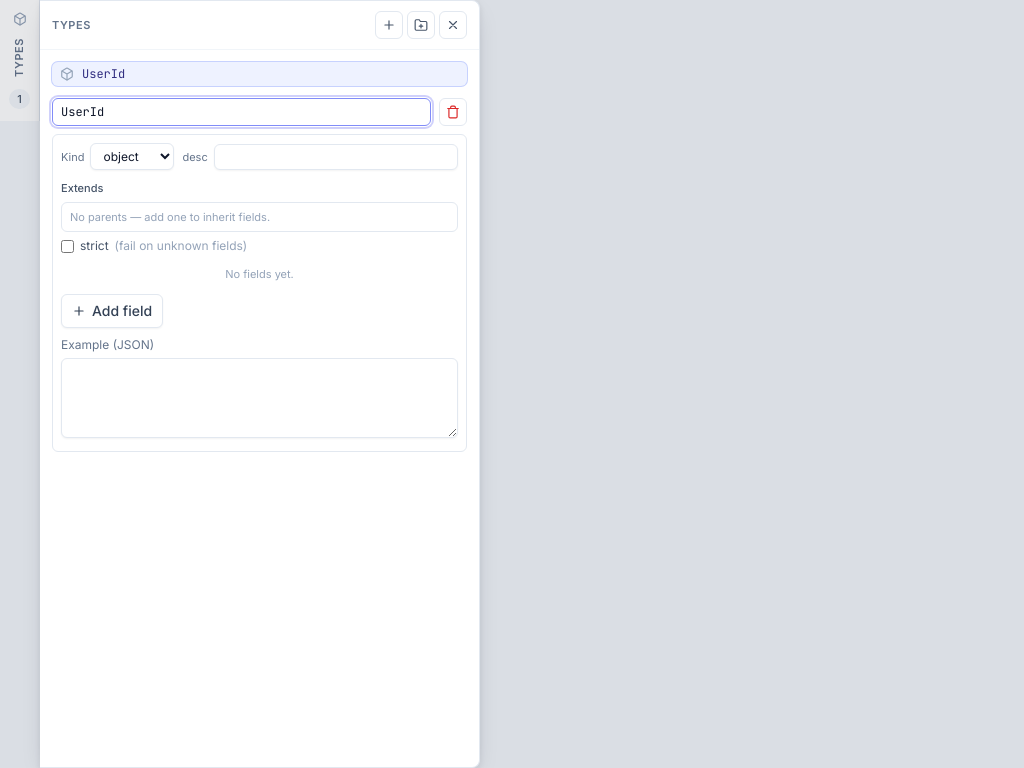
Test: rapid add-type does not clobber the previously-selected type
The width and height of the screenshot is (1024, 768).
Replace the text in the field named "Type name" with "UserEdited" at (242, 112), box [52, 98, 431, 126]
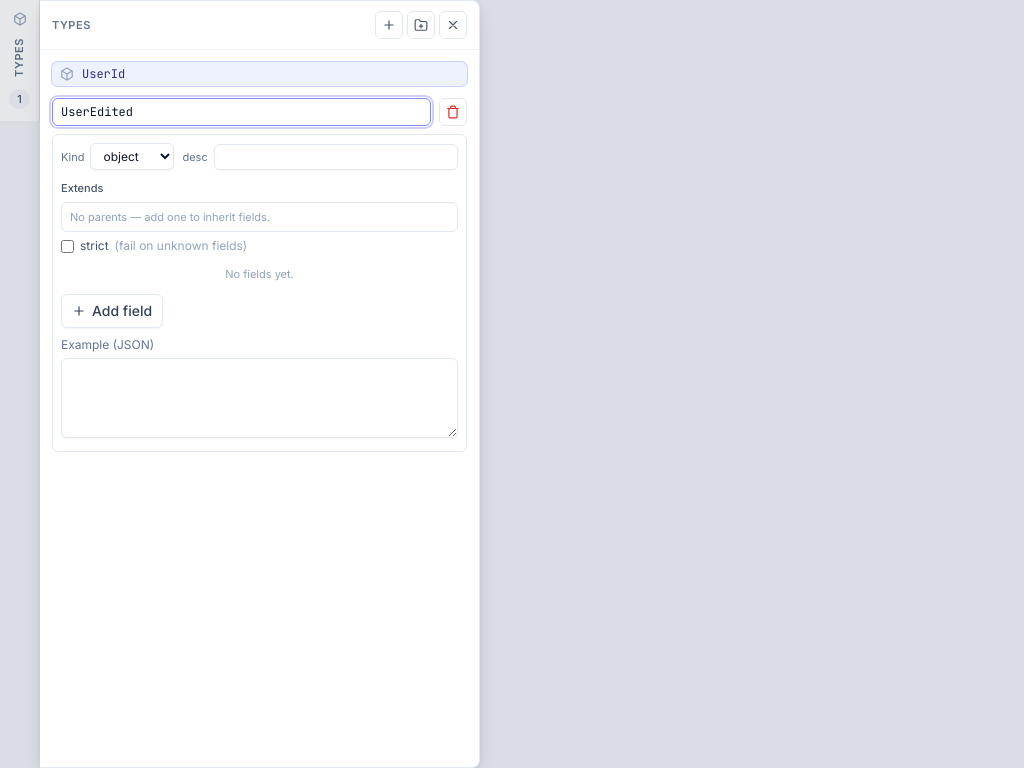
Click the button named "add type" at (389, 25), box [375, 11, 403, 39]
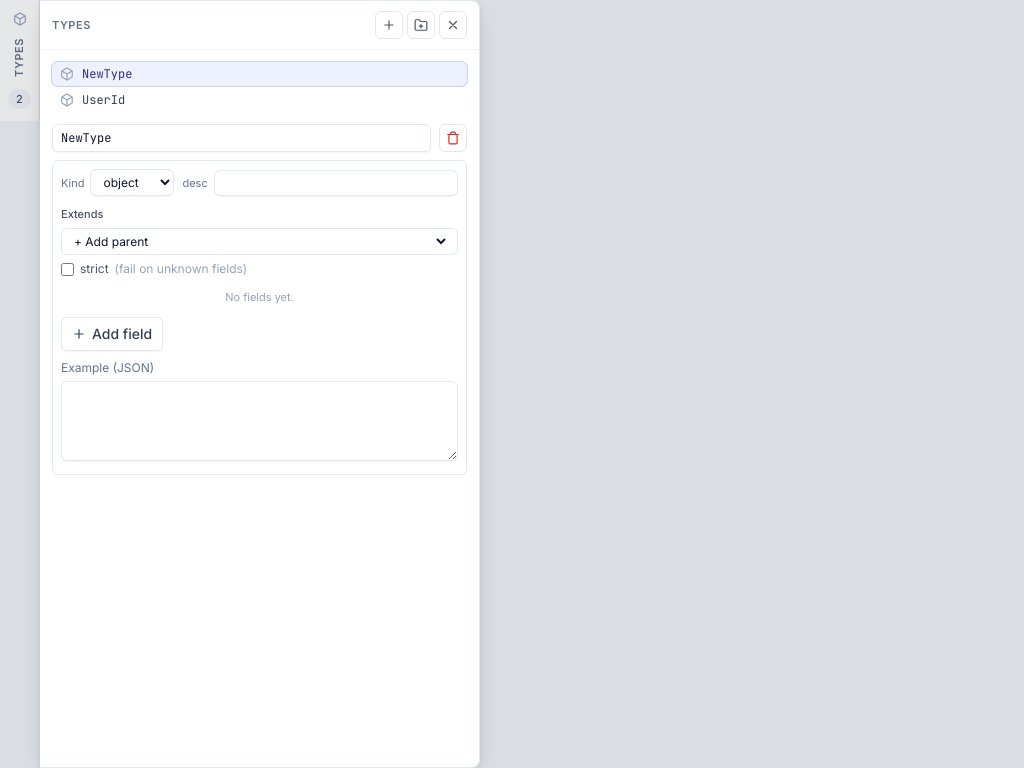
Expected: the text "UserId" is shown, [82, 92, 125, 108]
Expected: the text "NewType" is shown, [82, 66, 132, 82]
